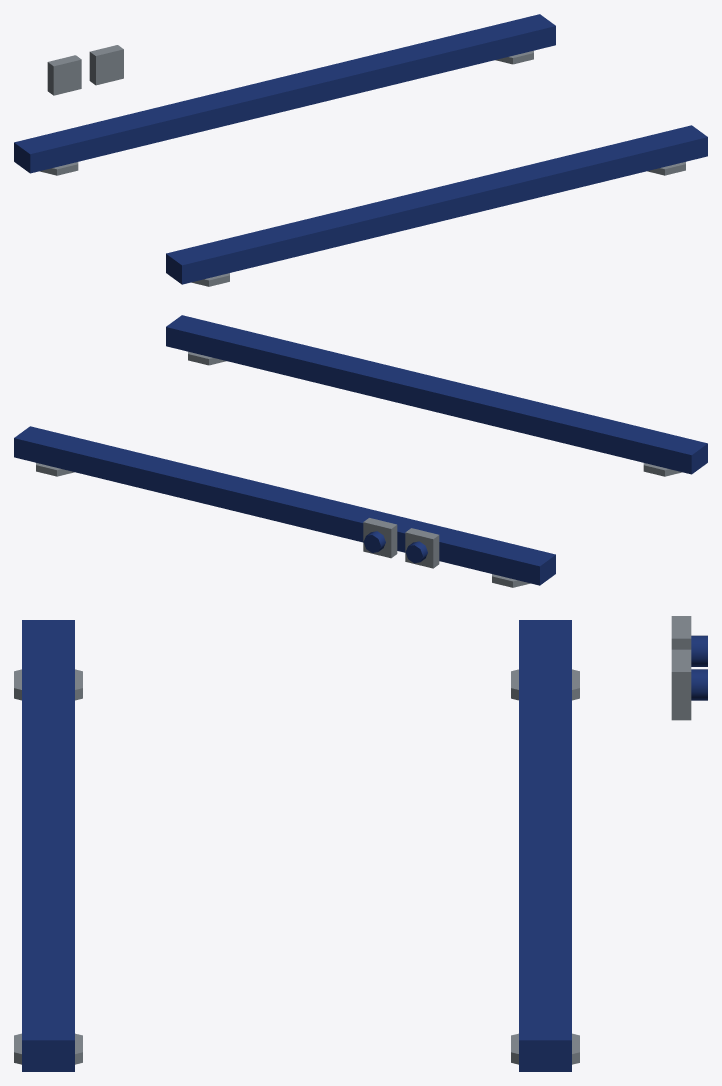
The model's file is mo4_frame.obj.
3 renders of one model, top to bottom at view 1: azimuth 30°, elevation 25°; view 2: azimuth 150°, elevation 25°; view 3: azimuth 270°, elevation 25°, orthographic. The views are drawn at different scales.
Parts seen in each view (by area): view 1: mo4_frame; view 2: mo4_frame; view 3: mo4_frame.
Boxes of the visible parts, box(x1,y1,x2,y2) form: mo4_frame: box(14, 14, 707, 286); mo4_frame: box(14, 315, 707, 587); mo4_frame: box(14, 616, 707, 1071).
Size of the model in its own units: 3 by 0.34 by 2.09.
